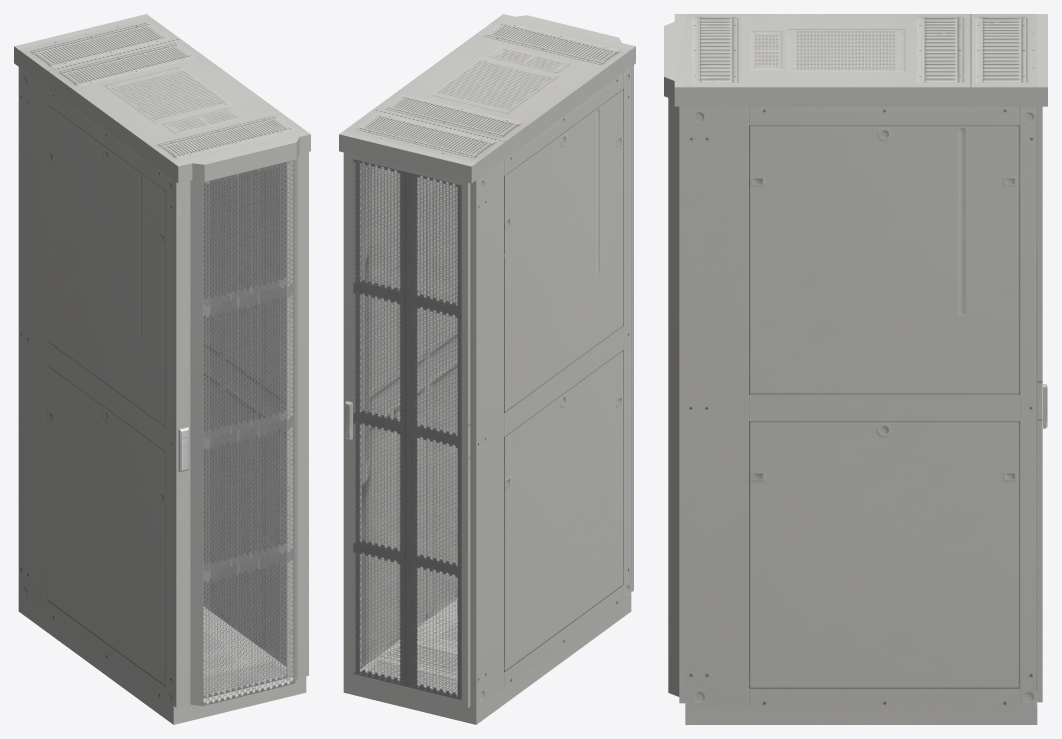
The model's file is HAC_Rack.glb.
3 views of the same model, side by side, from view 1: azimuth 30°, elevation 25°; view 2: azimuth 150°, elevation 25°; view 3: azimuth 270°, elevation 25° (orthographic). The views are drawn at different scales.
Visible parts, largest first — view 1: HAC_Rack, HAC_Rack_Front_Door; view 2: HAC_Rack, HAC_Rack_Back_Door, HAC_Rack_Front_Door; view 3: HAC_Rack, HAC_Rack_Front_Door, HAC_Rack_Back_Door.
Part boxes in pixels (bbox=[...]): HAC_Rack: bbox=[14, 14, 310, 724]; HAC_Rack_Front_Door: bbox=[173, 152, 308, 707]; HAC_Rack: bbox=[339, 14, 635, 724]; HAC_Rack_Back_Door: bbox=[345, 153, 470, 708]; HAC_Rack_Front_Door: bbox=[631, 65, 633, 591]; HAC_Rack: bbox=[664, 14, 1047, 724]; HAC_Rack_Front_Door: bbox=[668, 98, 685, 703]; HAC_Rack_Back_Door: bbox=[1037, 106, 1047, 702].
Bounding box in the file's own units: 0.8148 × 3.3 × 1.8.
2 materials, 2 textured.
